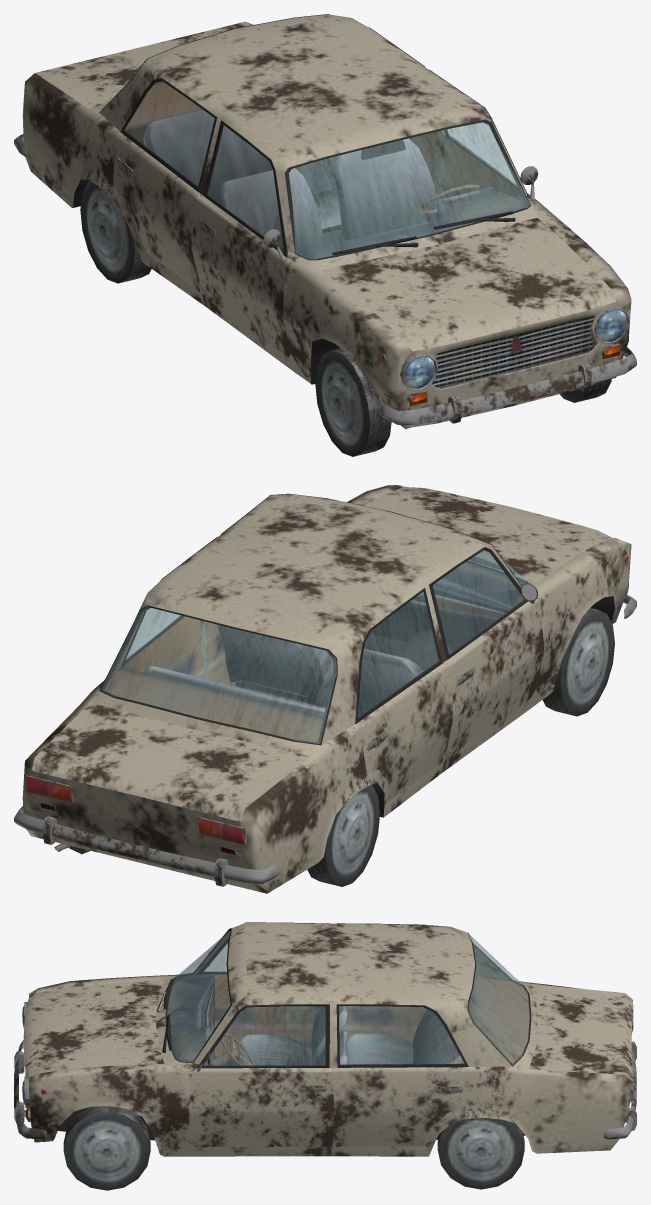
The model's file is vaz2101.gltf.
3 views of the same model, one above another, from view 1: azimuth 30°, elevation 25°; view 2: azimuth 150°, elevation 25°; view 3: azimuth 270°, elevation 25° (orthographic). The views are drawn at different scales.
Visible parts, largest first — view 1: Body, Wheel_FR, Wheel_RR; view 2: Body, Wheel_FR, Wheel_RR; view 3: Body, Wheel_FL, Wheel_RL.
Boxes of the visible parts, left/top/right/bottom form: Body: left=14, top=14, right=636, bottom=429; Wheel_FR: left=315, top=348, right=391, bottom=456; Wheel_RR: left=80, top=180, right=151, bottom=283; Body: left=14, top=485, right=636, bottom=893; Wheel_FR: left=542, top=608, right=614, bottom=716; Wheel_RR: left=307, top=784, right=379, bottom=886; Body: left=14, top=922, right=636, bottom=1156; Wheel_FL: left=63, top=1106, right=150, bottom=1190; Wheel_RL: left=437, top=1118, right=524, bottom=1189.
Size of the model in its own units: 1.64 by 1.35 by 4.04.
Materials: 2 (2 with a texture image).
